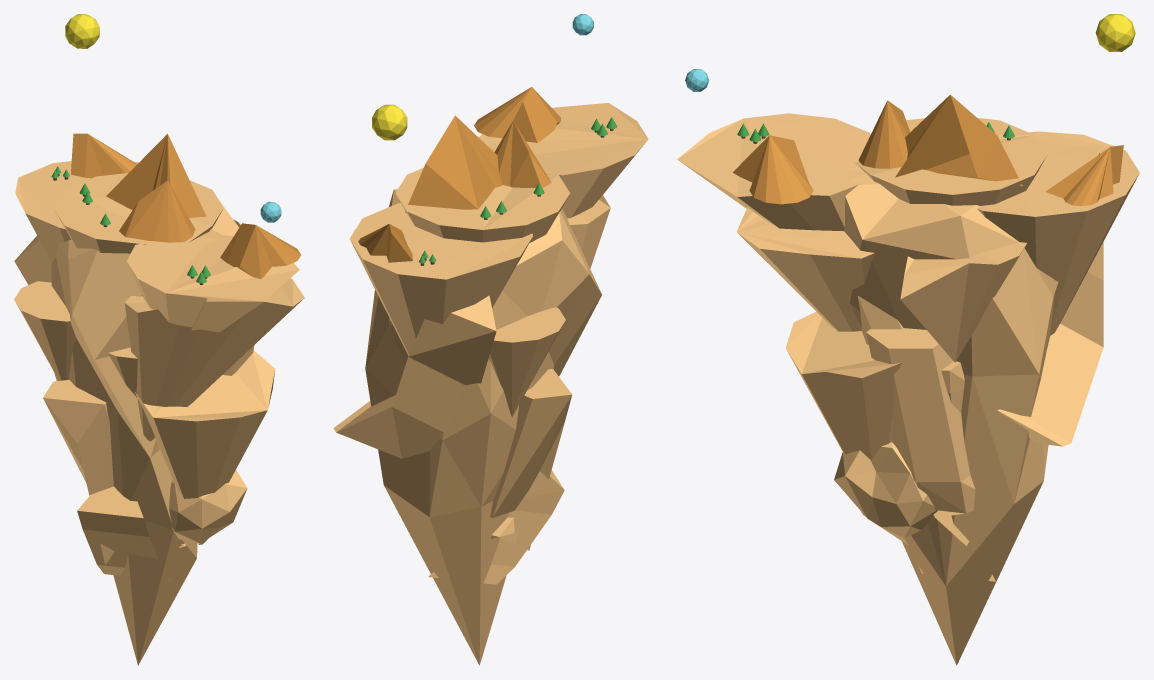
File: desertIsland.fbx
3 renders of one model, left to right at view 1: azimuth 30°, elevation 25°; view 2: azimuth 150°, elevation 25°; view 3: azimuth 270°, elevation 25°, orthographic. The views are drawn at different scales.
Parts seen in each view (by area): view 1: default; view 2: default; view 3: default.
Boxes of the visible parts, bbox=[...] form: default: bbox=[14, 14, 304, 665]; default: bbox=[333, 14, 648, 665]; default: bbox=[677, 14, 1139, 665].
Bounding box in the file's own units: 0.7046 × 1.81 × 1.15.
